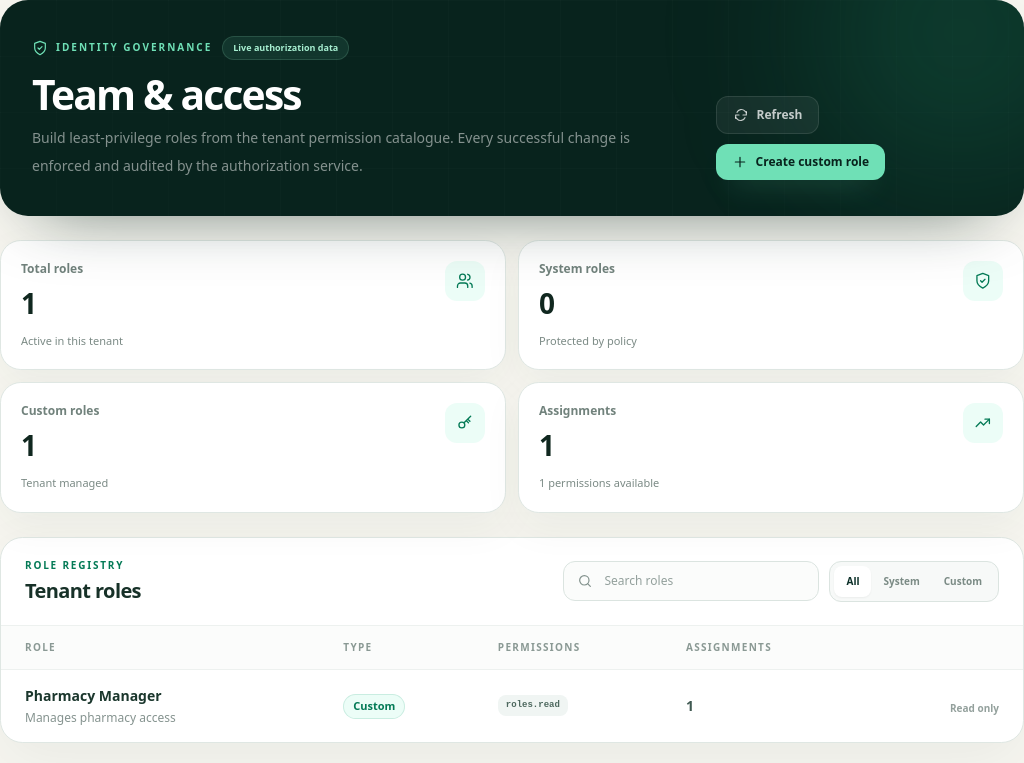
Scenario: TeamAccessWorkspace permission-aware interactions › removes an open mutation form when refreshed permissions revoke access
Click the button "Create custom role". click: x=800, y=162
box: [716,144,885,180]
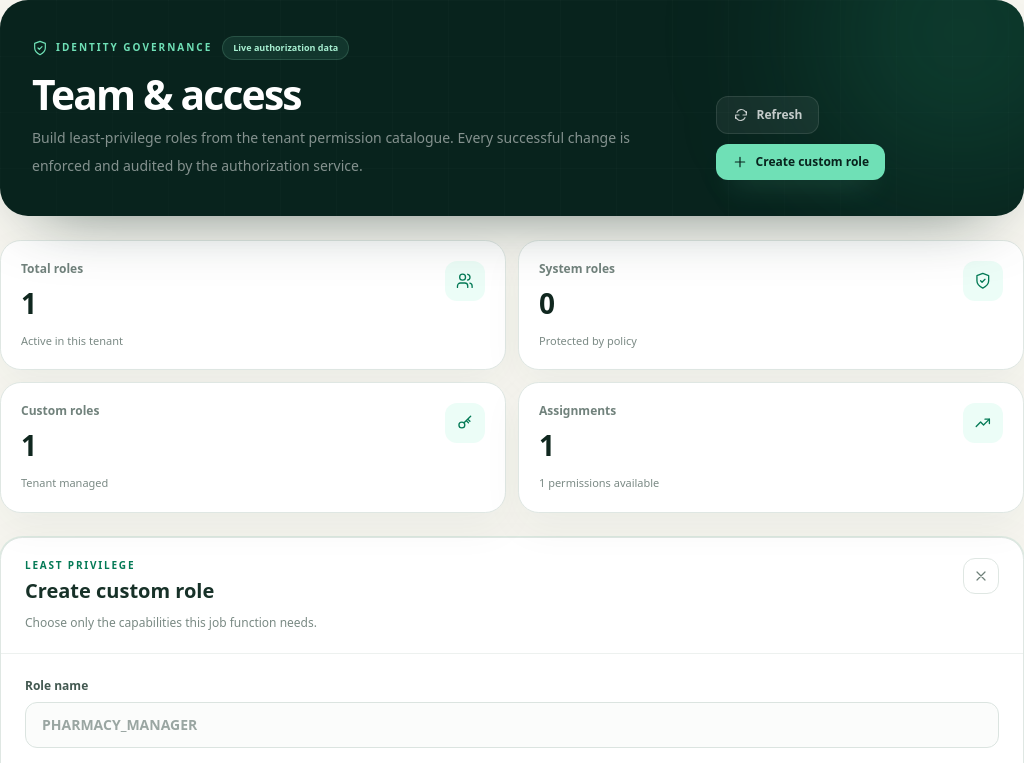
expect the heading "Create custom role" is shown: met, box [25,576,214,604]
Click the button "Refresh". click: x=768, y=114
box: [716,96,819,134]
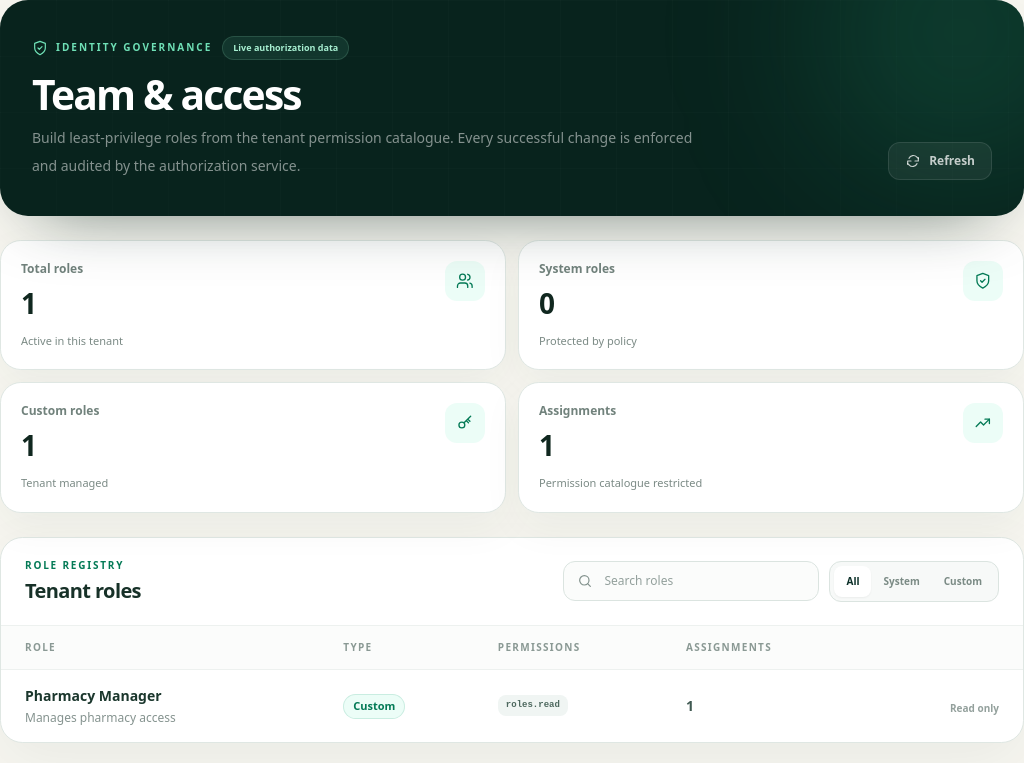
expect the button "Create custom role" is gone: met
